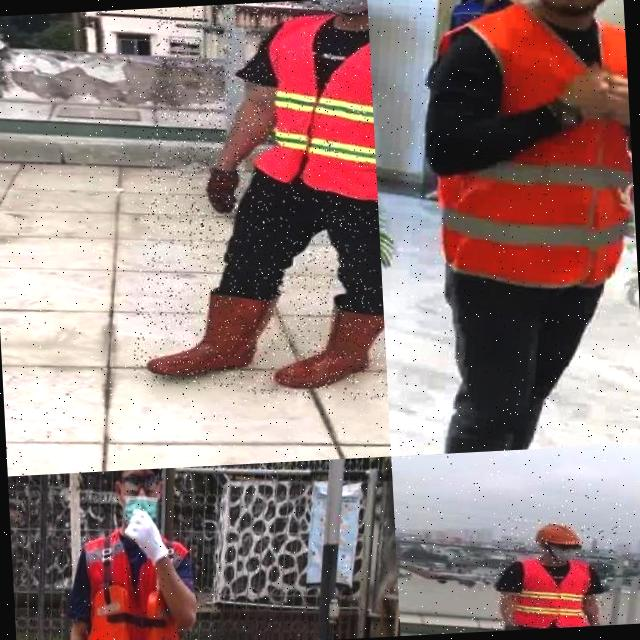boots: (139, 279, 280, 392), (272, 290, 388, 398)
helmet: (530, 519, 586, 549)
vest: (405, 0, 639, 309), (240, 2, 378, 214), (54, 520, 205, 640), (510, 553, 596, 630)
